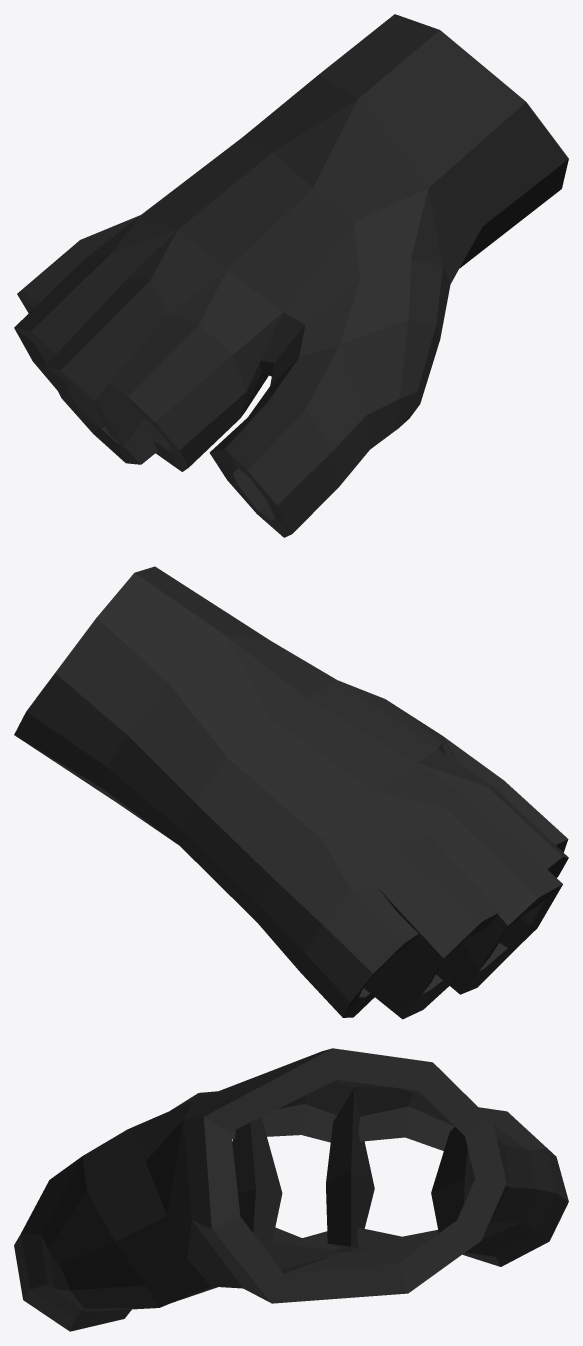
The model's file is Glove_Fingerless_R.fbx.
The picture shows the model from 3 angles, top to bottom: view 1: azimuth 30°, elevation 25°; view 2: azimuth 150°, elevation 25°; view 3: azimuth 270°, elevation 25°; orthographic projection. The views are drawn at different scales.
Parts seen in each view (by area): view 1: Glove_Fingerless_R; view 2: Glove_Fingerless_R; view 3: Glove_Fingerless_R.
Part boxes in pixels (x1,y1,x2,y2): Glove_Fingerless_R: (14, 14, 568, 537); Glove_Fingerless_R: (14, 566, 568, 1019); Glove_Fingerless_R: (14, 1048, 568, 1331).
Size of the model in its own units: 15.22 by 10.85 by 12.42.
1 material, 1 textured.
